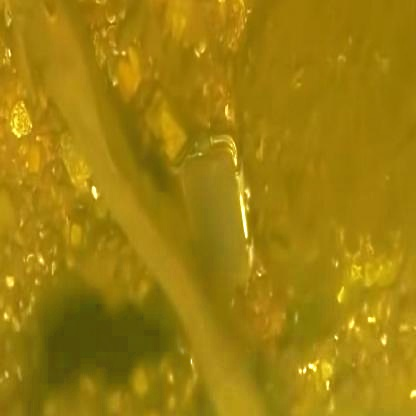electronics: (168, 122, 274, 301)
